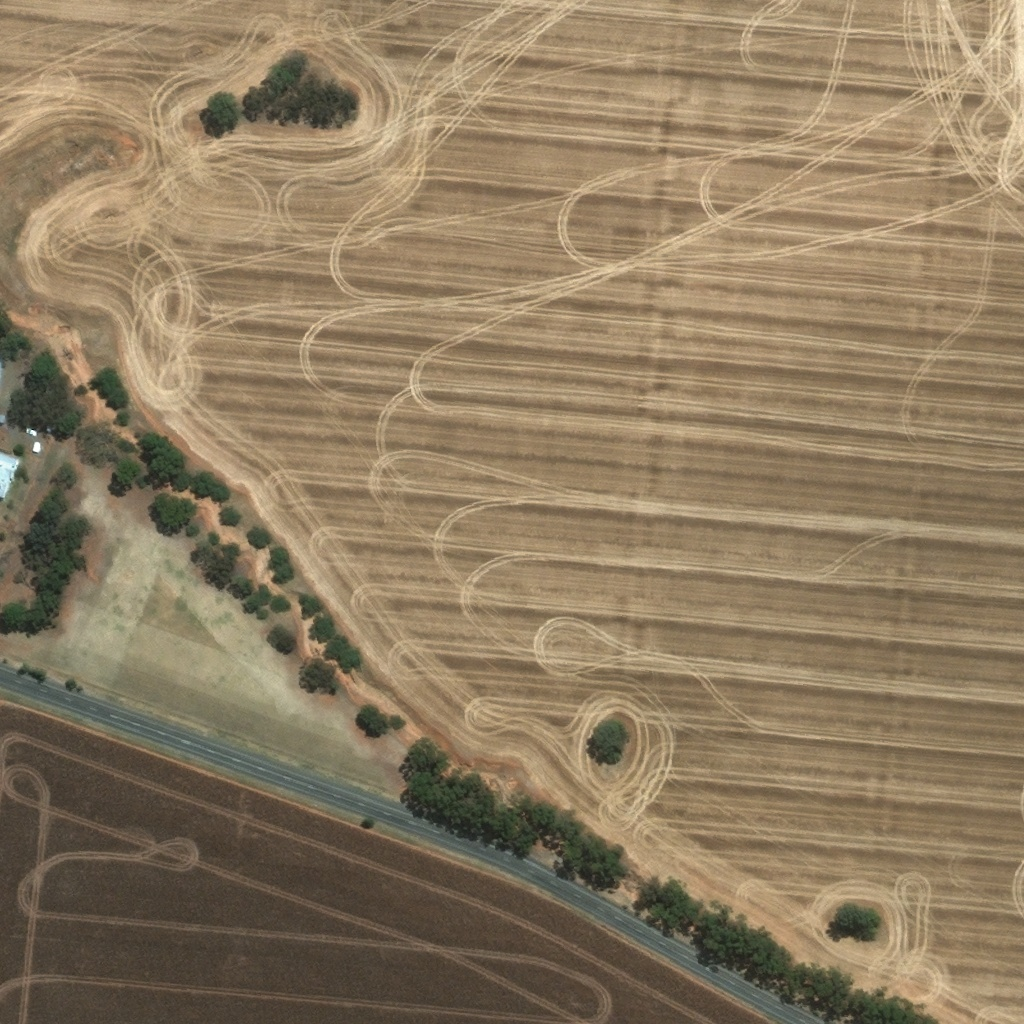0 no-damage: (0, 452, 20, 500), (22, 426, 37, 438), (32, 441, 40, 453), (0, 414, 4, 423)
